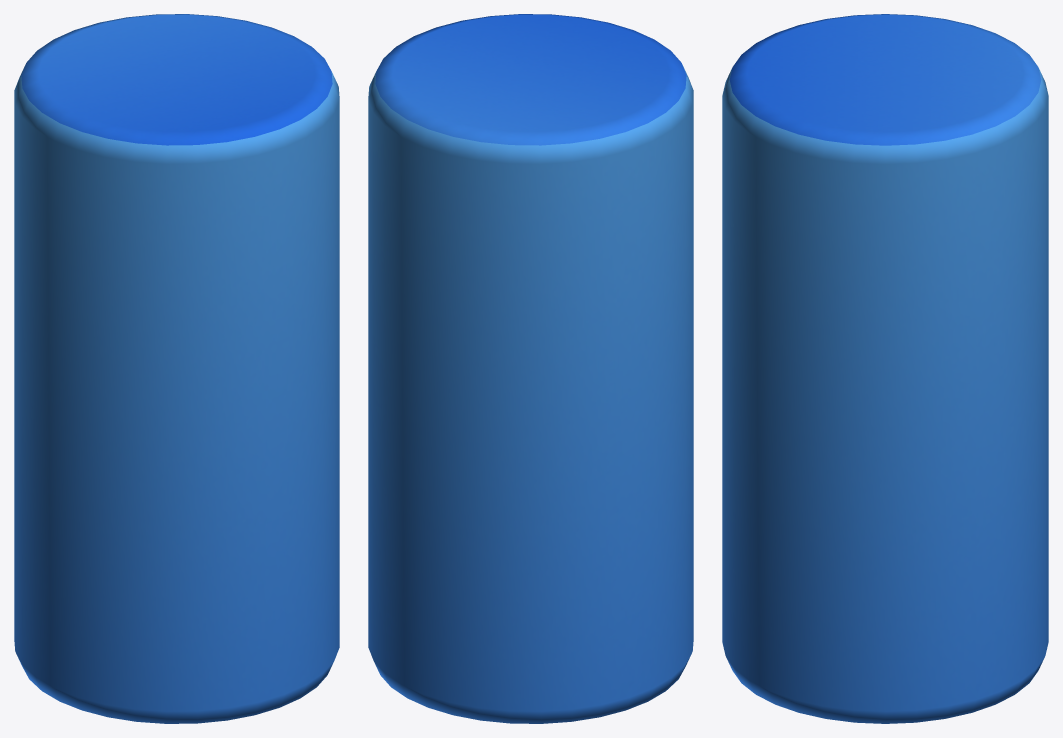
Rendered from BlockCylinderBlue.fbx.
3 renders of one model, left to right at view 1: azimuth 30°, elevation 25°; view 2: azimuth 150°, elevation 25°; view 3: azimuth 270°, elevation 25°, orthographic.
Visible parts, largest first — view 1: Cylinder.005; view 2: Cylinder.005; view 3: Cylinder.005.
Part boxes in pixels (x1=…): Cylinder.005: x1=14, y1=14, x2=339, y2=723; Cylinder.005: x1=368, y1=14, x2=693, y2=723; Cylinder.005: x1=722, y1=14, x2=1048, y2=723.
Bounding box in the file's own units: 200 × 400 × 200.
